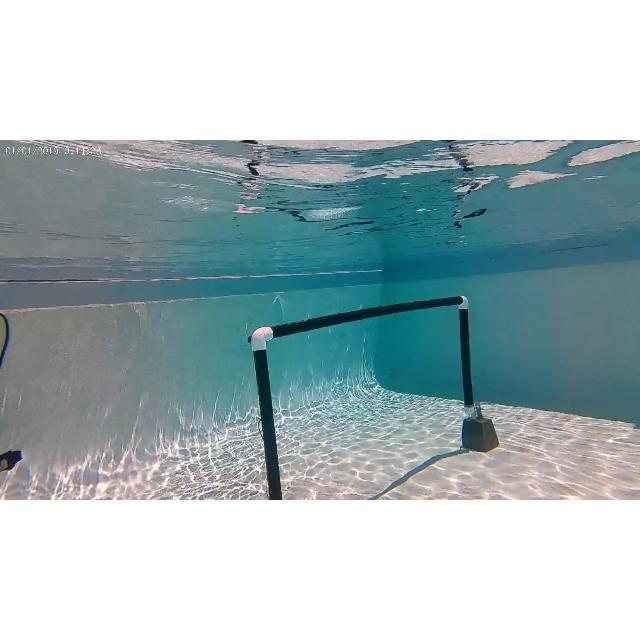prequal gate: (252, 296, 474, 500)
prequal gate leg l: (252, 324, 288, 501)
prequal gate leg r: (448, 295, 478, 417)
